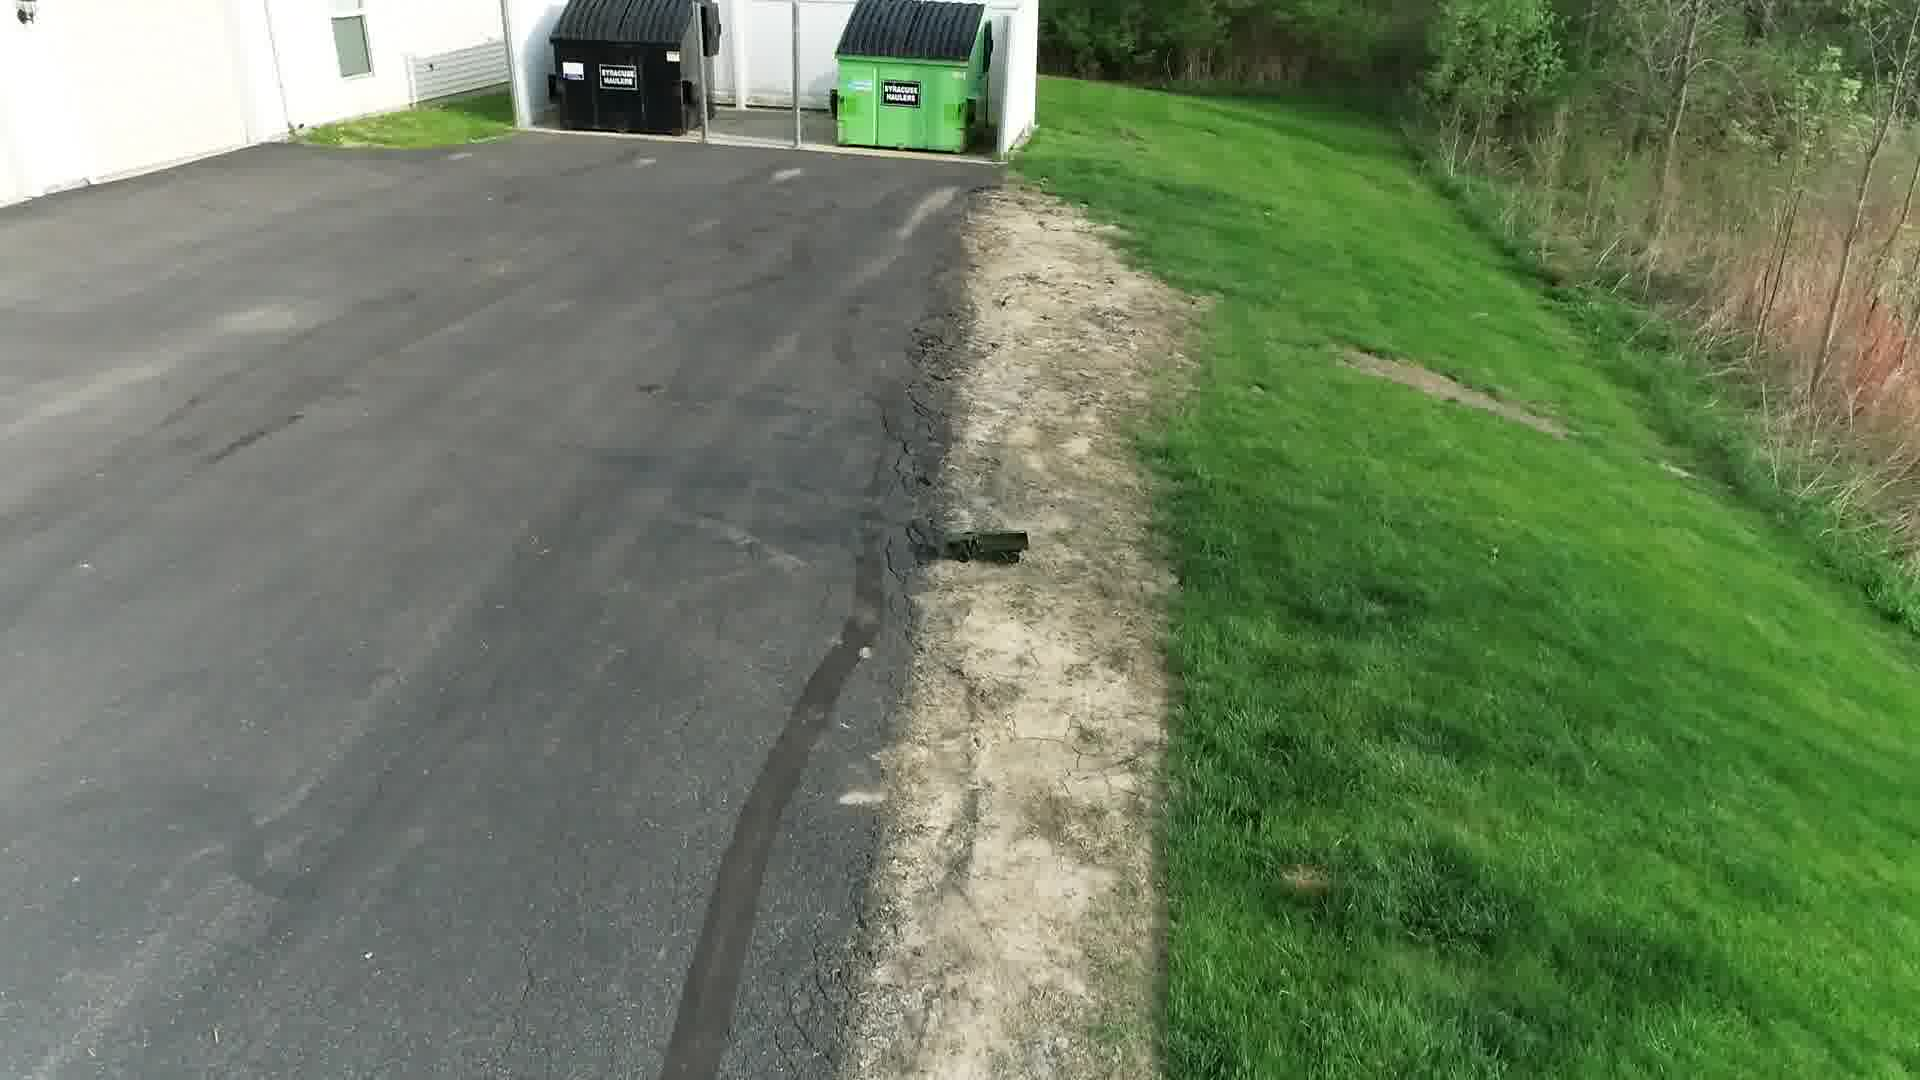transporter9: (944, 527, 1034, 567)
